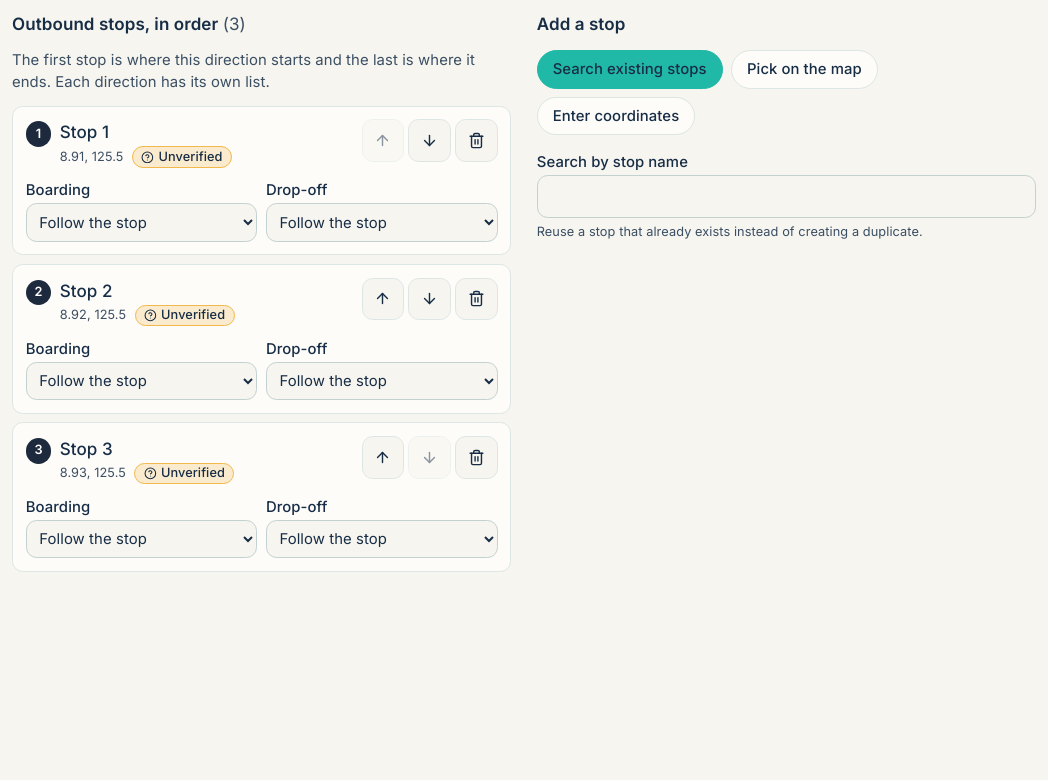
Test case: adding by coordinates › shows a duplicate-stop error from the server instead of adding
Click the button "Enter coordinates" at (616, 116), box [537,97,695,135]
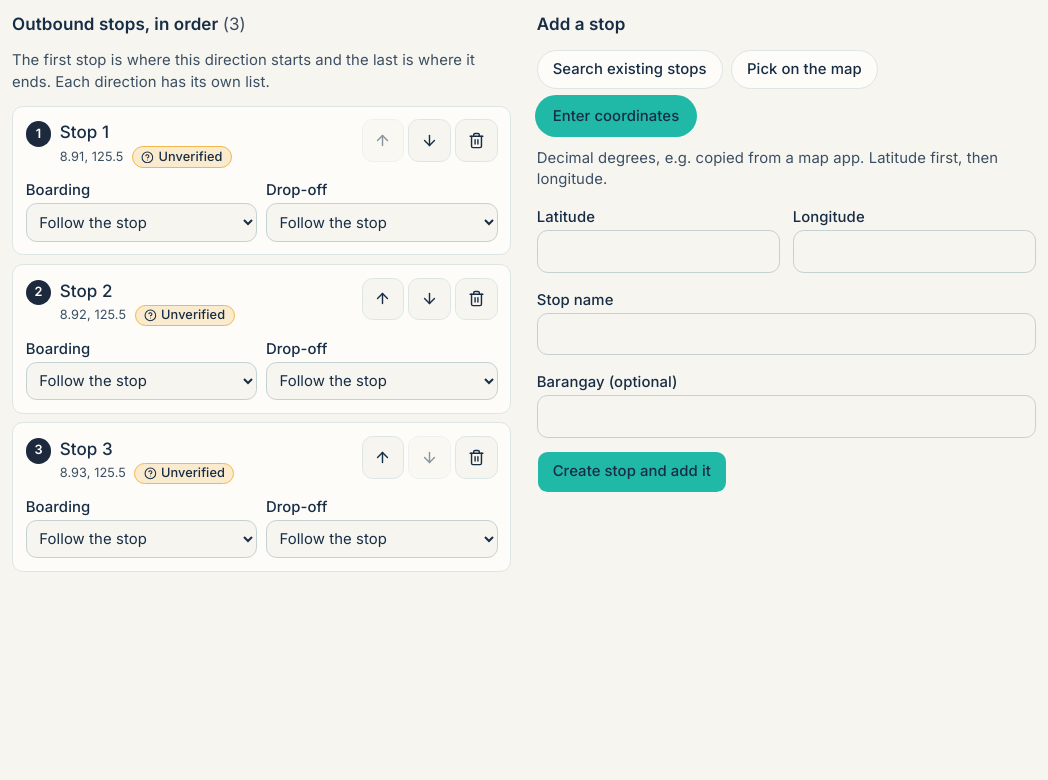
Type "8.95" into the field labelled "Latitude" at (658, 252), box [537,230,780,273]
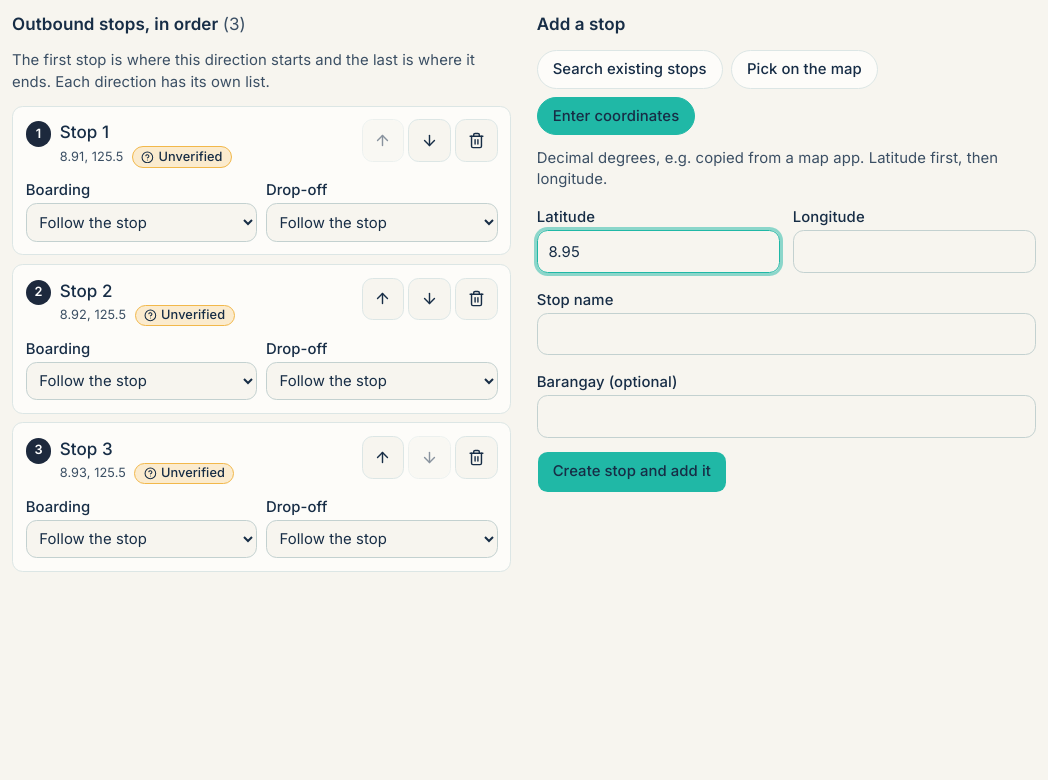
Type "125.54" into the field labelled "Longitude" at (914, 252), box [793,230,1036,273]
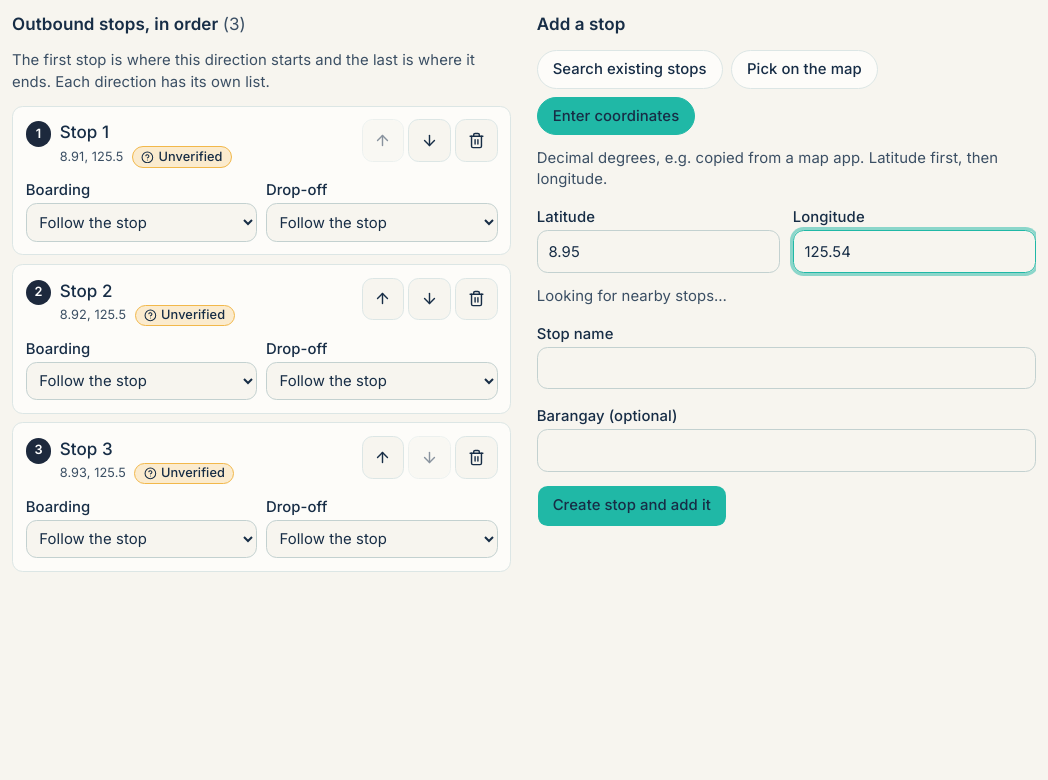
Type "New Stop" into the field labelled "Stop name" at (786, 368), box [537,347,1036,389]
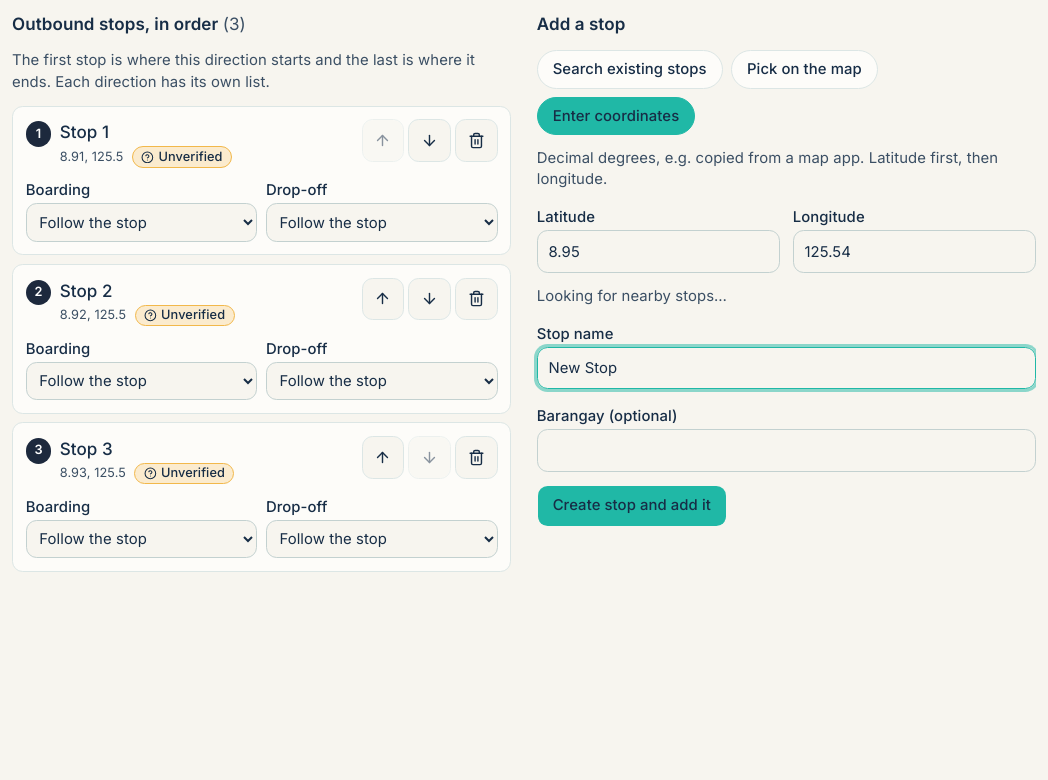
Click the button "Create stop and add it" at (632, 506), box [537,485,727,527]
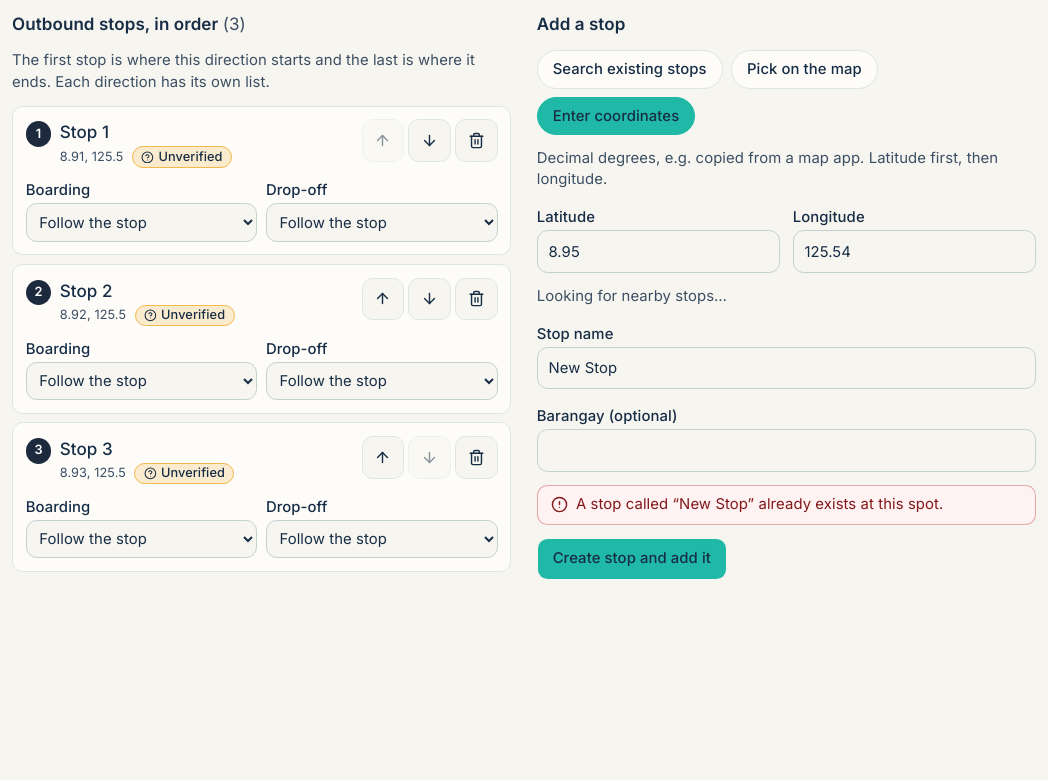
Expected: the text "A stop called “New Stop” already exists at this spot." is shown, [576,494,943,515]
